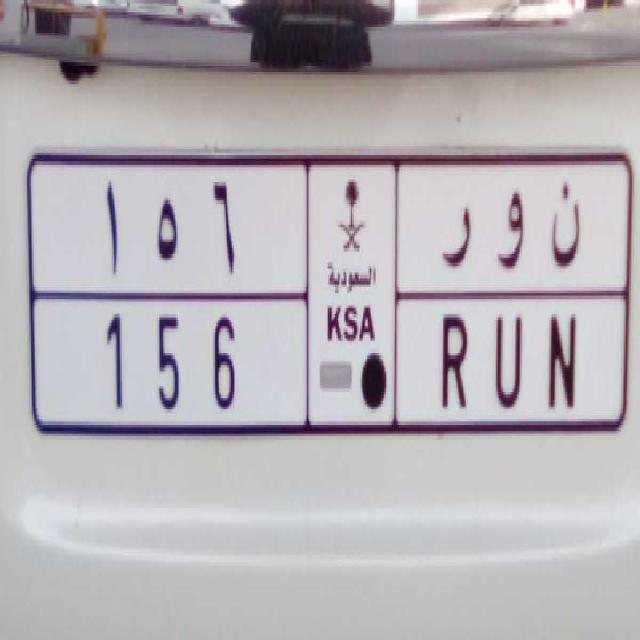license_plate: (35, 291, 621, 428)
